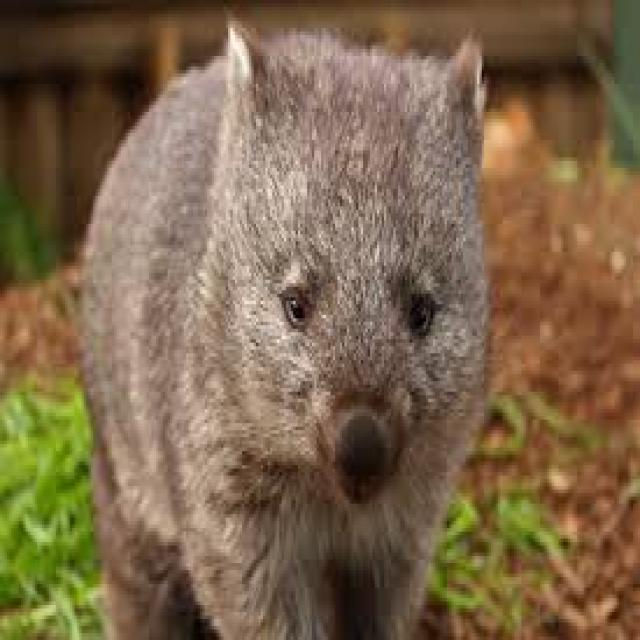Wombat: (87, 24, 494, 640)
